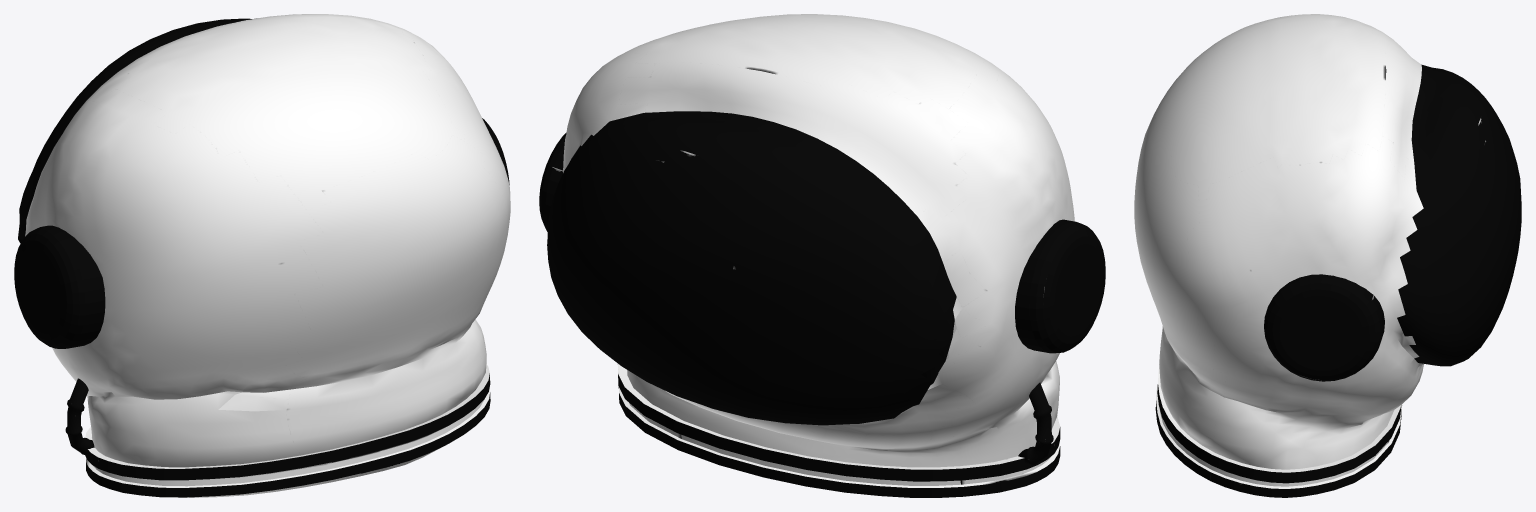
The model's file is helmet.fbx.
3 renders of one model, left to right at view 1: azimuth 30°, elevation 25°; view 2: azimuth 150°, elevation 25°; view 3: azimuth 270°, elevation 25°, orthographic. The views are drawn at different scales.
Parts seen in each view (by area): view 1: Retopo_Sphere.001; view 2: Retopo_Sphere.001; view 3: Retopo_Sphere.001.
Boxes of the visible parts, x1,y1,x2,y2 form: Retopo_Sphere.001: [14, 14, 510, 497]; Retopo_Sphere.001: [539, 14, 1105, 497]; Retopo_Sphere.001: [1134, 14, 1521, 497].
Bounding box in the file's own units: 171 × 134 × 131.
